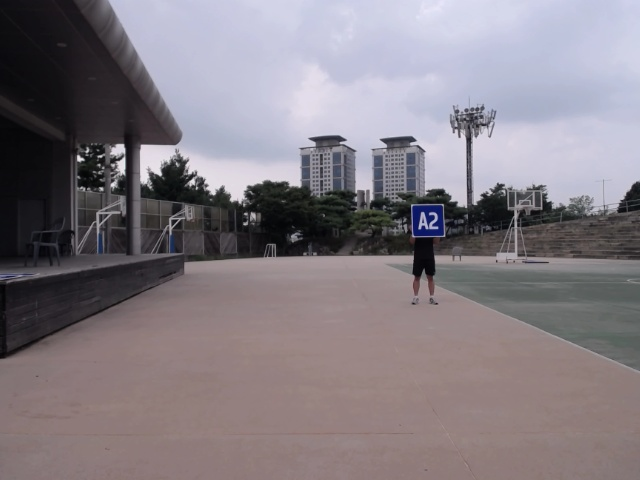delivery_a2: (412, 204, 445, 237)
